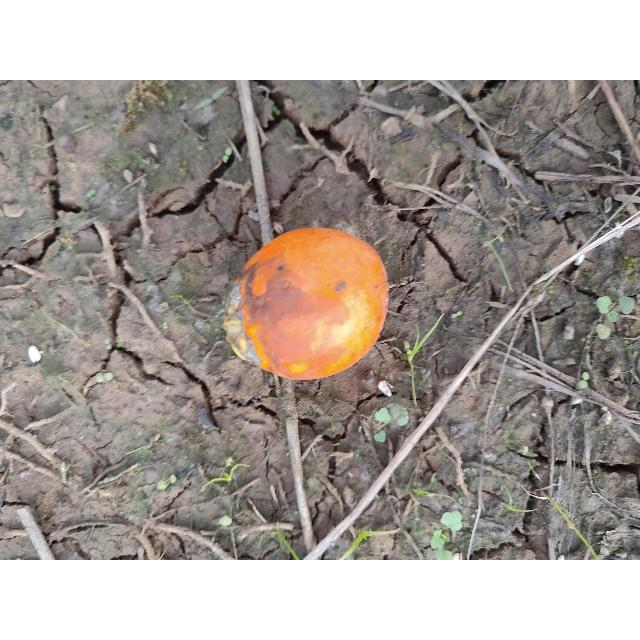good: (224, 228, 389, 382)
